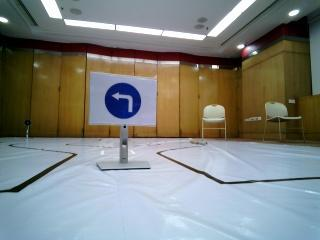left: (94, 76, 152, 121)
